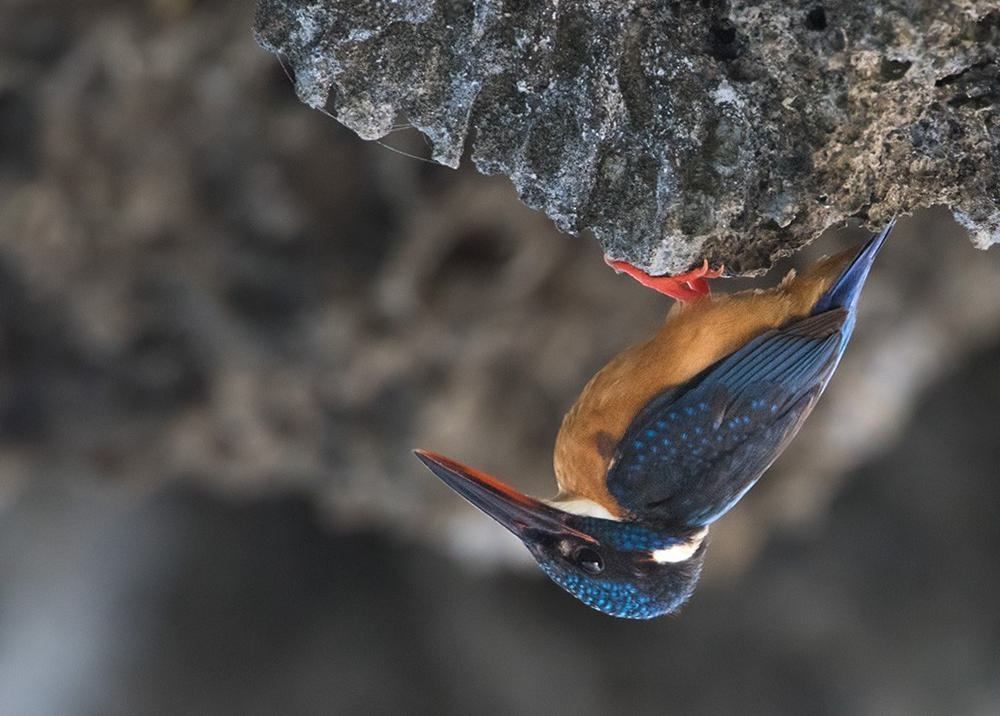kingfisher: (398, 190, 908, 622)
